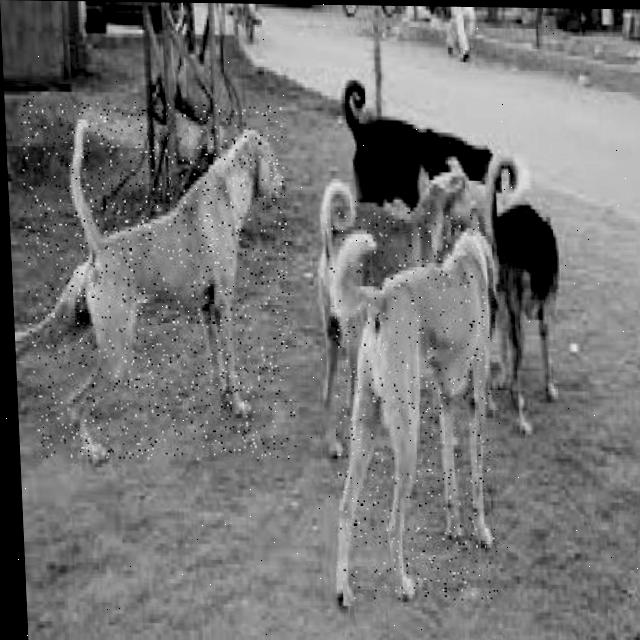Dog: (20, 102, 299, 463), (325, 211, 501, 603)
